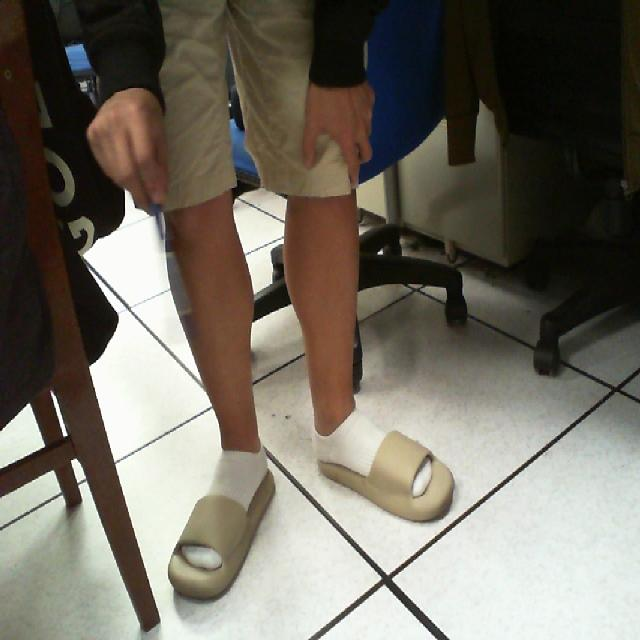Pen: (128, 159, 201, 365)
